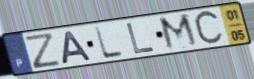A: (59, 30, 94, 66)
C: (192, 8, 226, 48)
L: (93, 25, 126, 60), (124, 21, 157, 55)
M: (157, 12, 202, 53)
Z: (23, 30, 63, 70)
